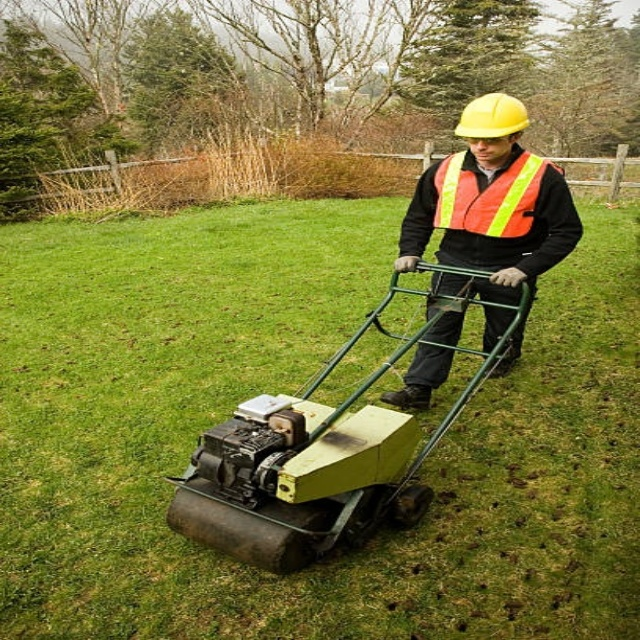Gafas: (465, 134, 512, 144)
Sin_guantes: (489, 267, 529, 288), (393, 256, 421, 274)
Sin_mascara: (471, 148, 500, 161)
